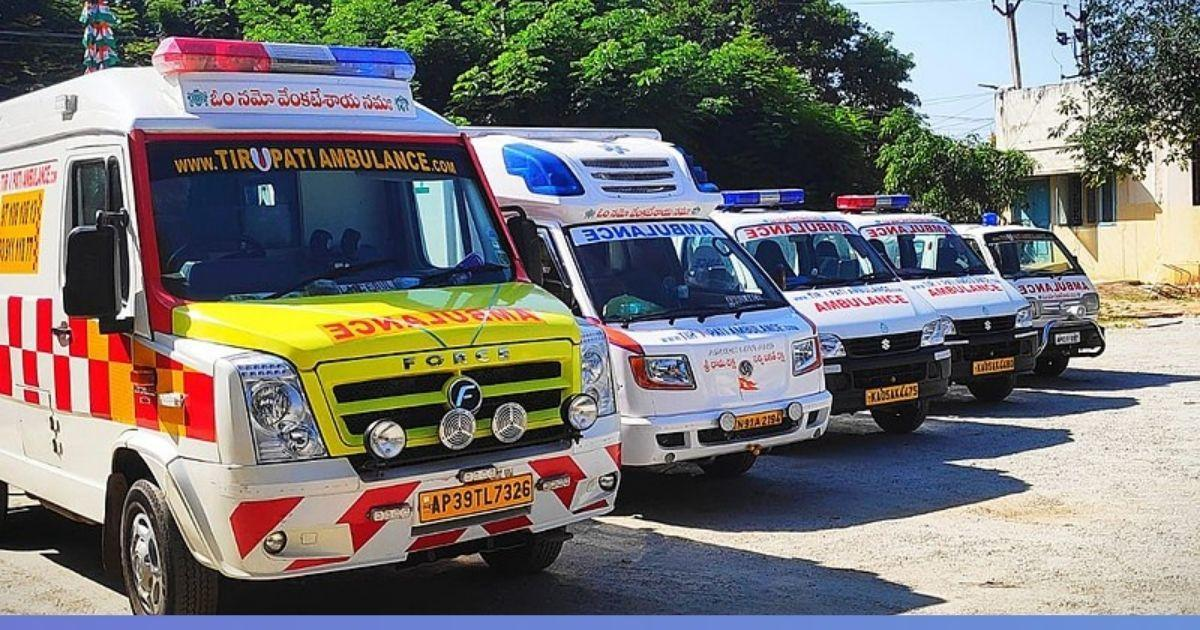ER: (0, 36, 621, 620), (466, 125, 832, 475), (716, 188, 950, 432), (835, 195, 1038, 406), (954, 215, 1106, 360)
